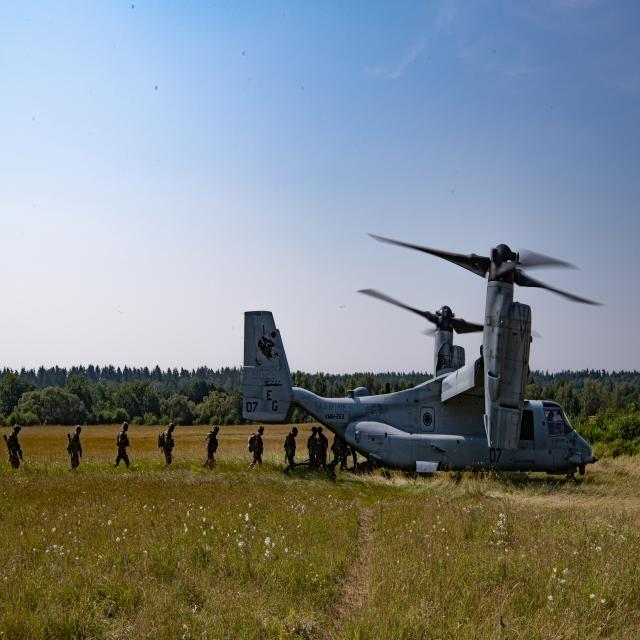MIL_Plane: (239, 233, 606, 481)
